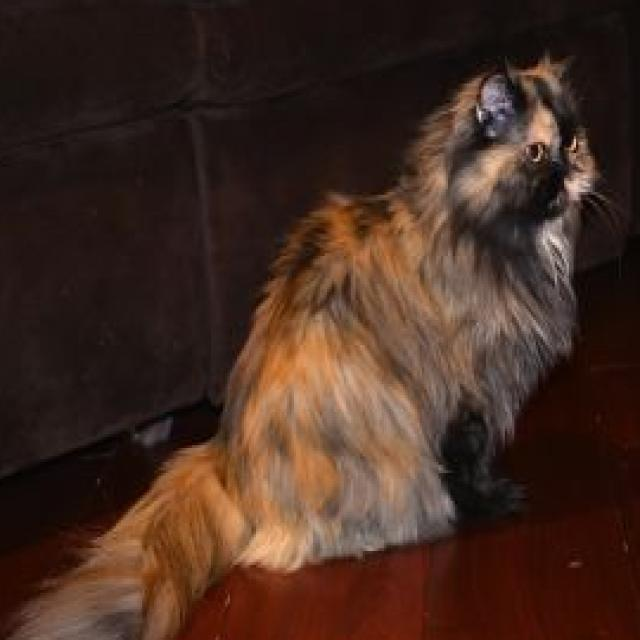Persian: (0, 41, 604, 640)
